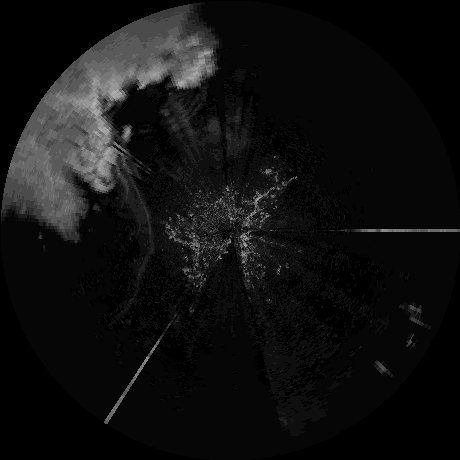frontgust: (125, 181, 154, 312)
